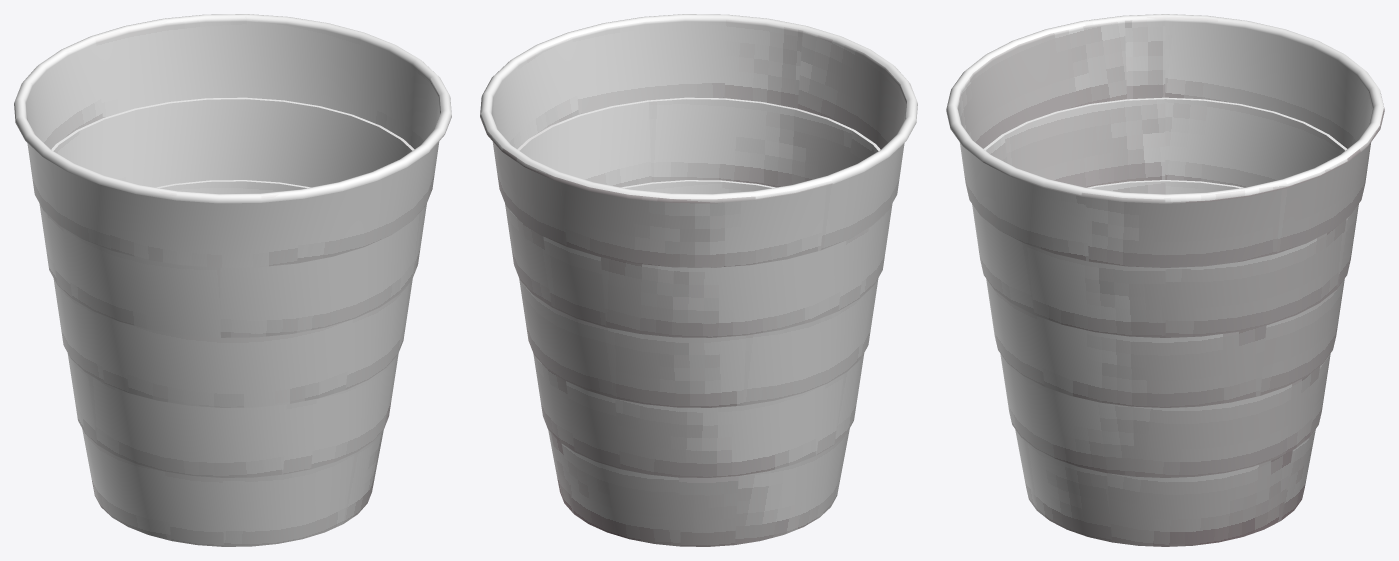
Rendered from room_trash.glb.
3 renders of one model, left to right at view 1: azimuth 30°, elevation 25°; view 2: azimuth 150°, elevation 25°; view 3: azimuth 270°, elevation 25°, orthographic.
Parts seen in each view (by area): view 1: mesh; view 2: mesh; view 3: mesh.
Boxes of the visible parts, <box> form: mesh: <box>14,14,451,546</box>; mesh: <box>480,14,917,546</box>; mesh: <box>946,14,1384,546</box>.
Size of the model in its own units: 0.3213 by 0.31 by 0.3213.
1 material, 1 textured.
